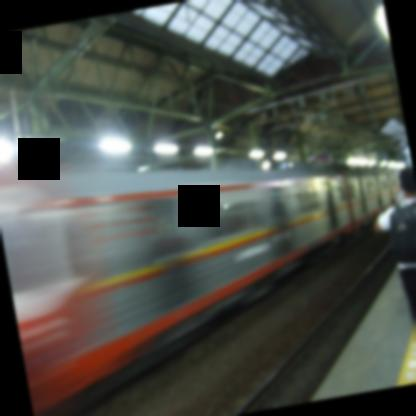backpack: (389, 195, 416, 264)
